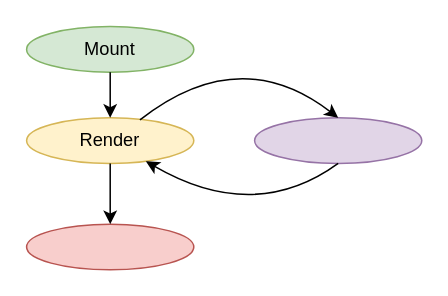
This 448x296 diagram has some shape labels left out. The box of each missing label's shape, as (x1, y1, x2, y2) in pixels:
Unmount: (25, 223, 194, 270)
Update: (253, 116, 422, 163)
